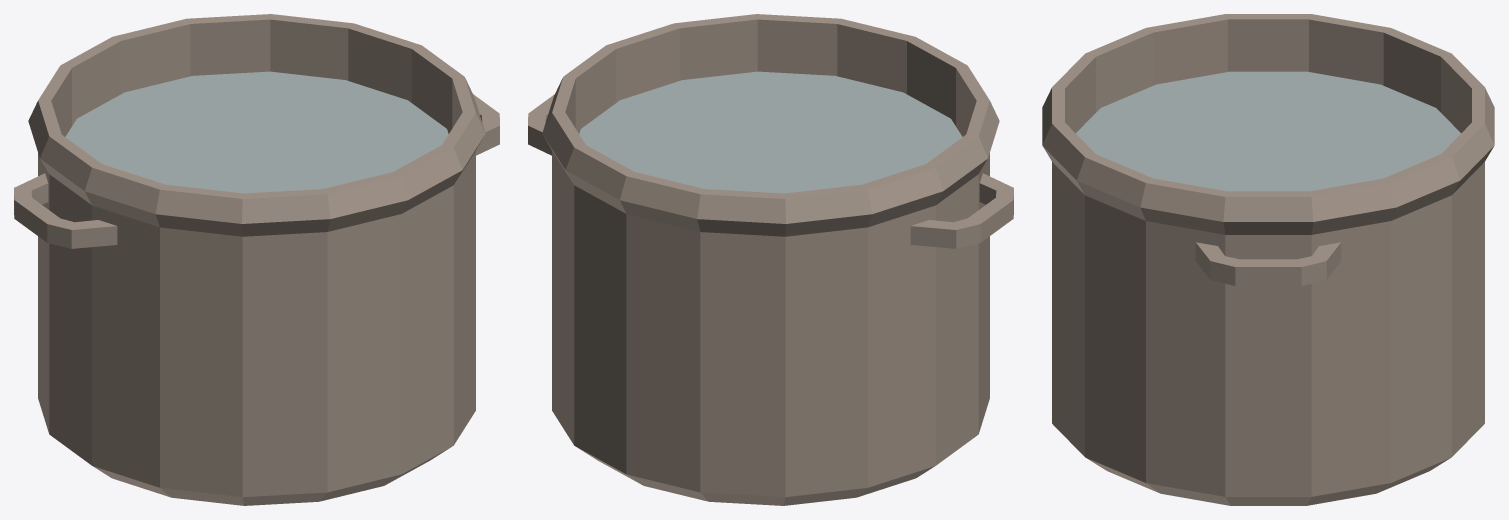
File: SM_Cook_BlanchPot_01.fbx
3 views of the same model, side by side, from view 1: azimuth 30°, elevation 25°; view 2: azimuth 150°, elevation 25°; view 3: azimuth 270°, elevation 25° (orthographic).
Visible parts, largest first — view 1: SM_Cook_BlanchPot_01; view 2: SM_Cook_BlanchPot_01; view 3: SM_Cook_BlanchPot_01.
Part boxes in pixels (box(x1,y1,x2,y2)): SM_Cook_BlanchPot_01: box(14, 14, 499, 505); SM_Cook_BlanchPot_01: box(528, 14, 1013, 505); SM_Cook_BlanchPot_01: box(1042, 14, 1494, 505).
Bounding box in the file's own units: 0.4765 × 0.32 × 0.41.
Materials: 1 (1 with a texture image).
